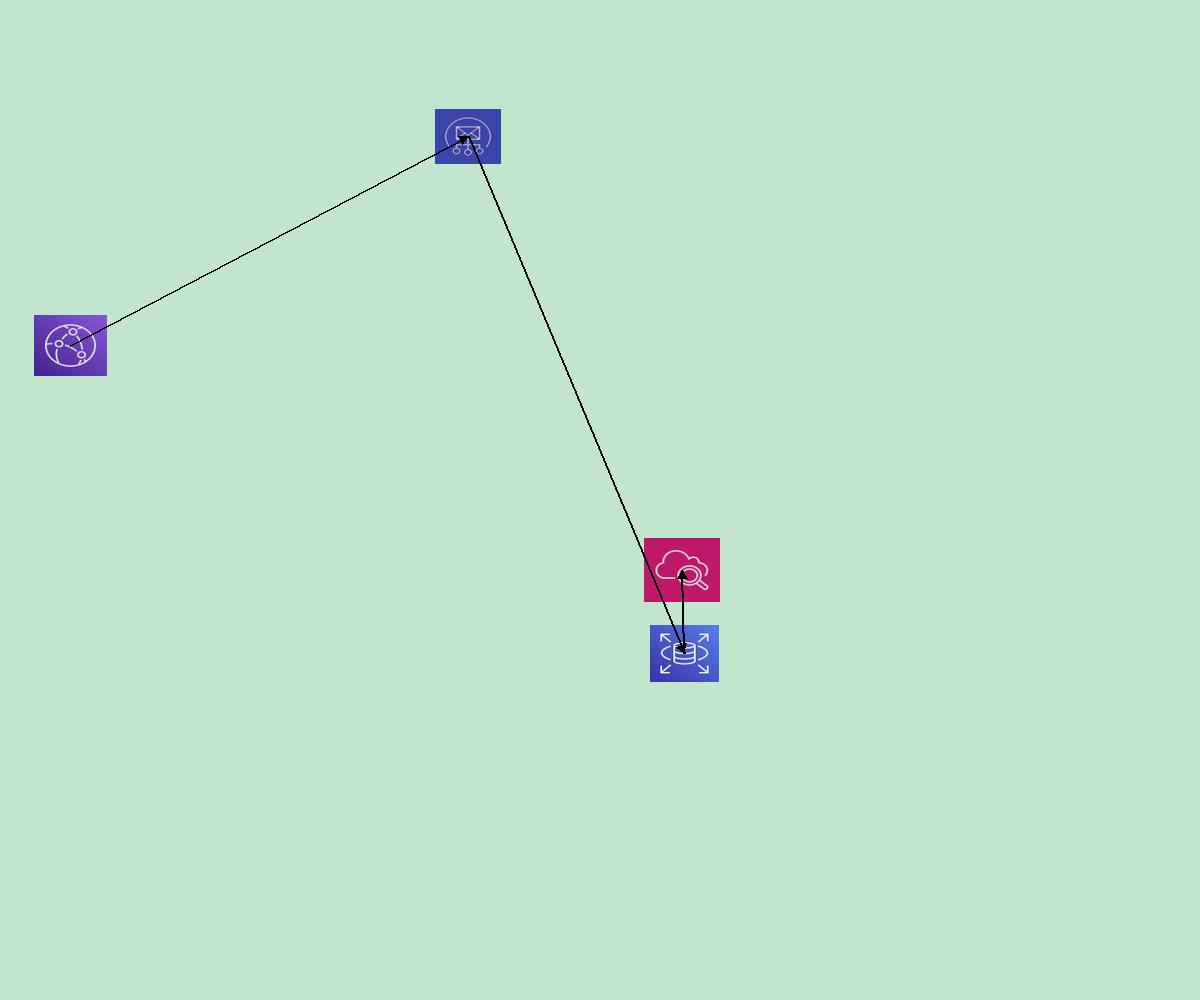AWS-CloudFront: (34, 315, 107, 376)
AWS-CloudWatch: (644, 538, 720, 602)
AWS-RDS: (650, 625, 719, 682)
AWS-Simple-Email-Service: (435, 109, 501, 164)
